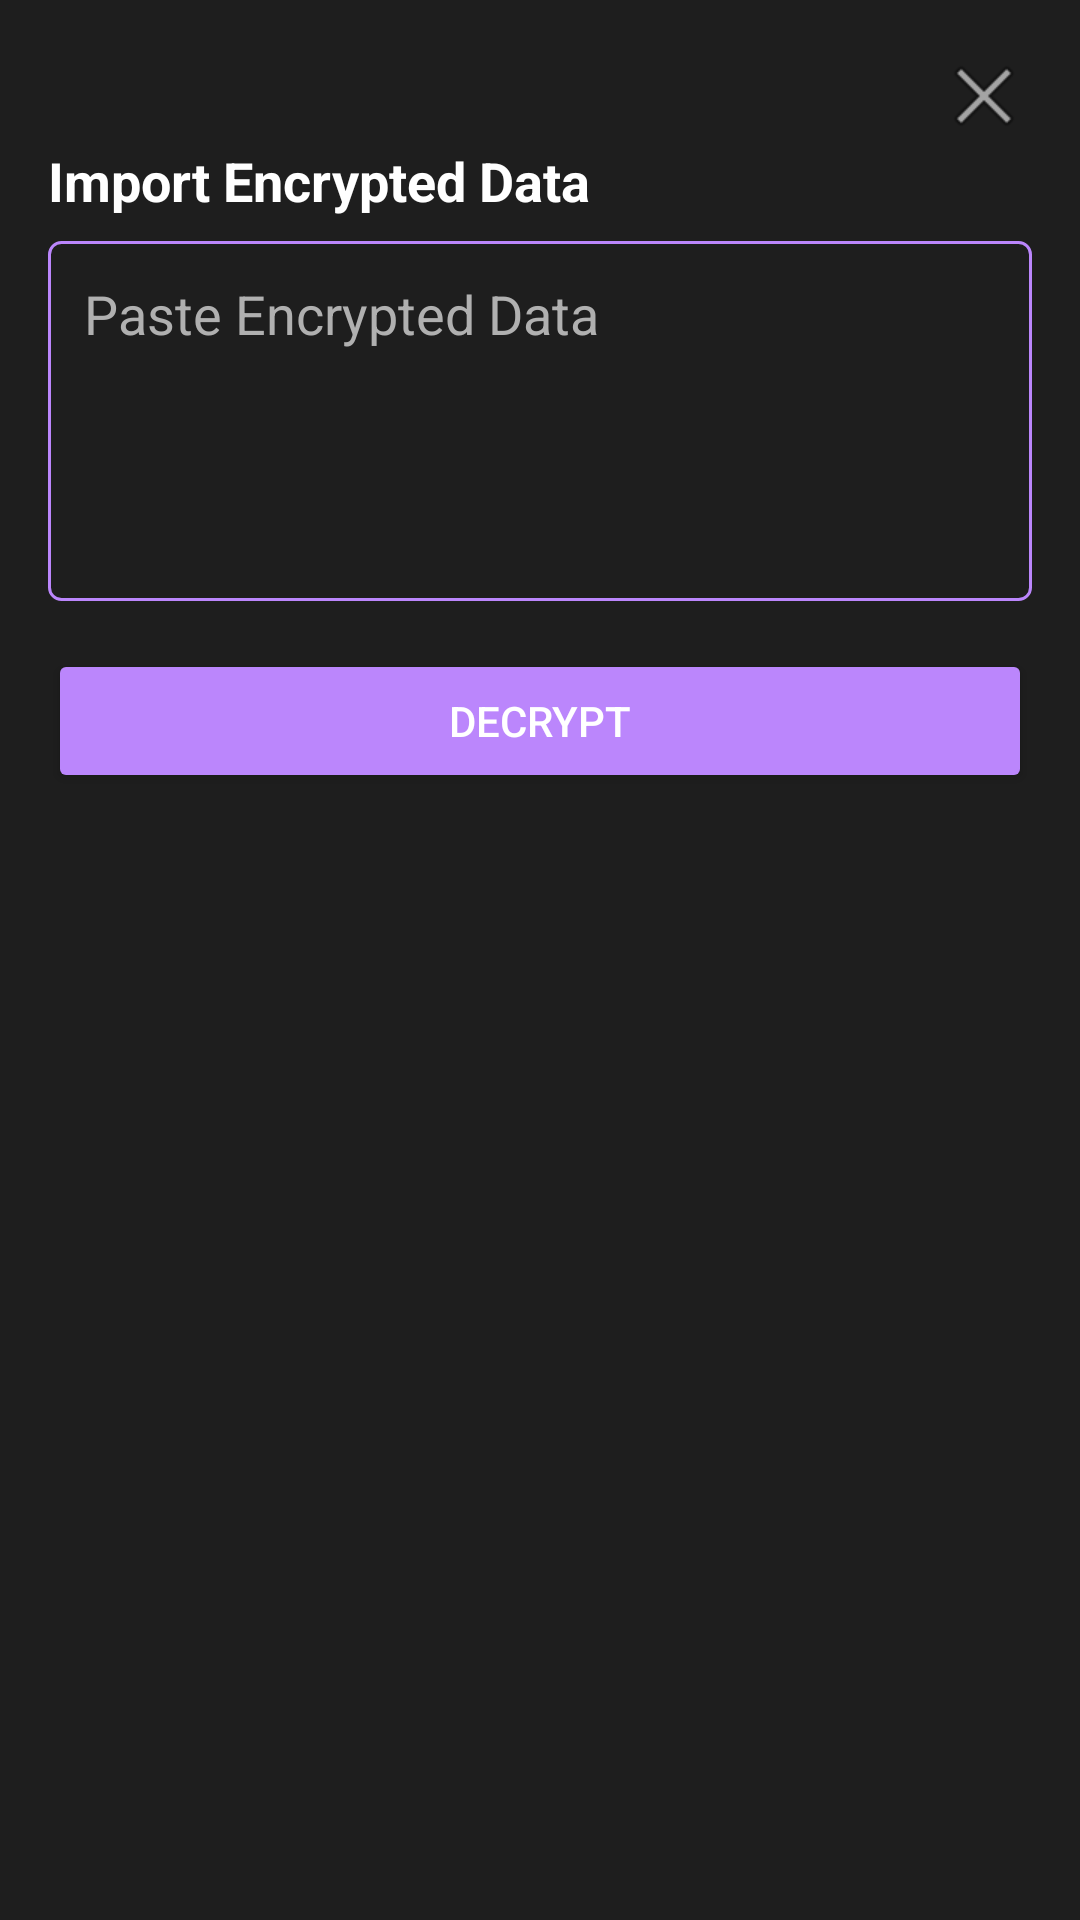

Locate icon controls on the screen. Image size 1080×1920, boxes as (x1, y1, x2, y2).
Close: (957, 69, 1011, 123)
